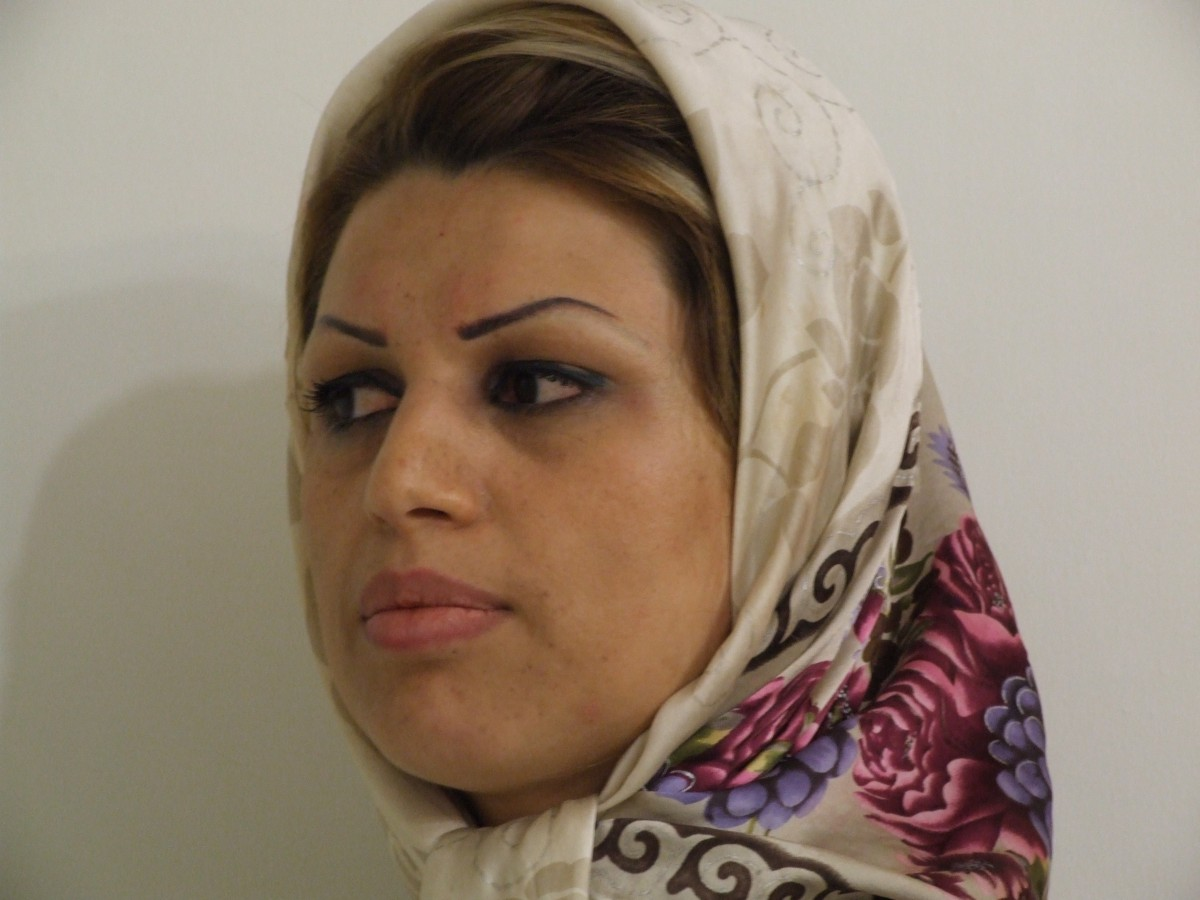neo: (388, 276, 421, 307), (690, 465, 717, 497), (533, 583, 558, 609), (444, 639, 469, 665), (518, 658, 539, 679), (594, 653, 619, 667), (431, 226, 451, 243), (542, 644, 555, 651)
occhiaia: (476, 407, 630, 469), (301, 438, 381, 490)
